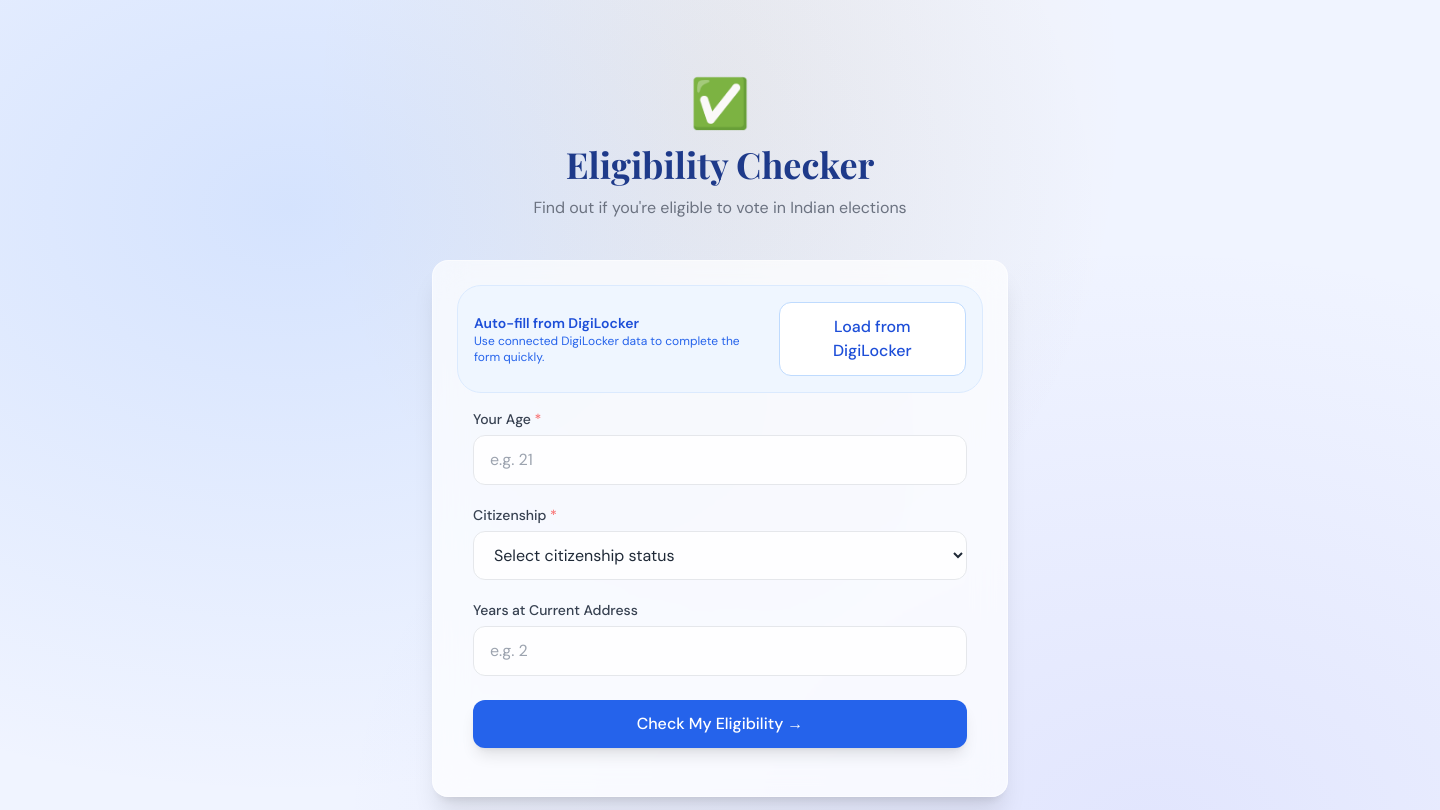
Test: Eligibility Page › shows error on empty submit
The width and height of the screenshot is (1440, 810).
Click the button "Check My Eligibility →".
click(720, 724)  # box [473, 700, 967, 748]
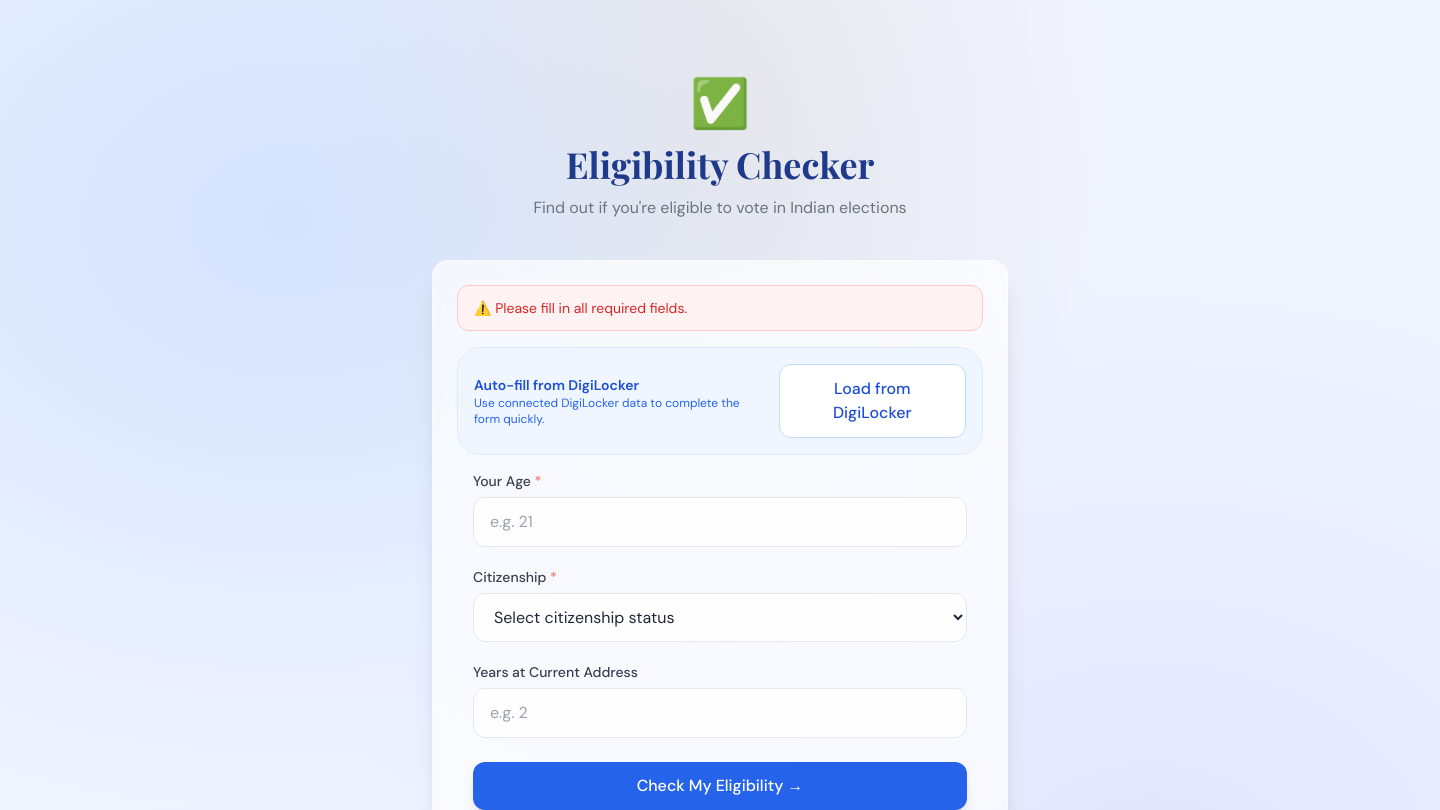
Expected: the message "⚠️ Please fill in all required fields." is shown, [457, 285, 983, 331]
